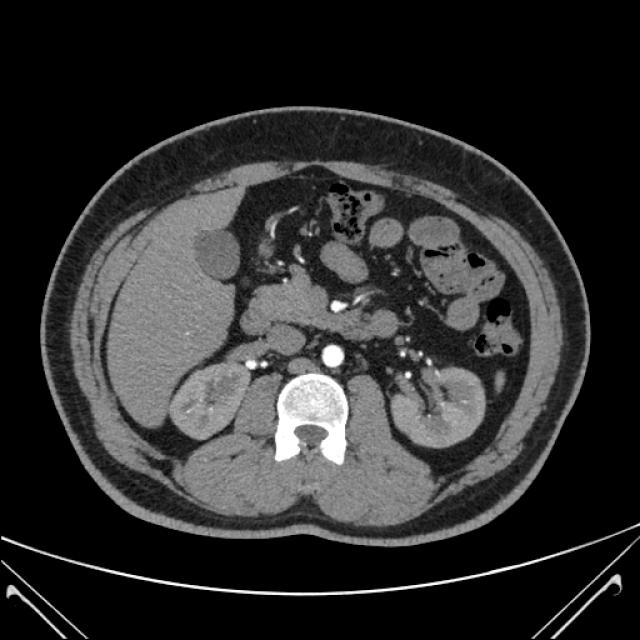Kidney: (98, 56, 598, 570)
